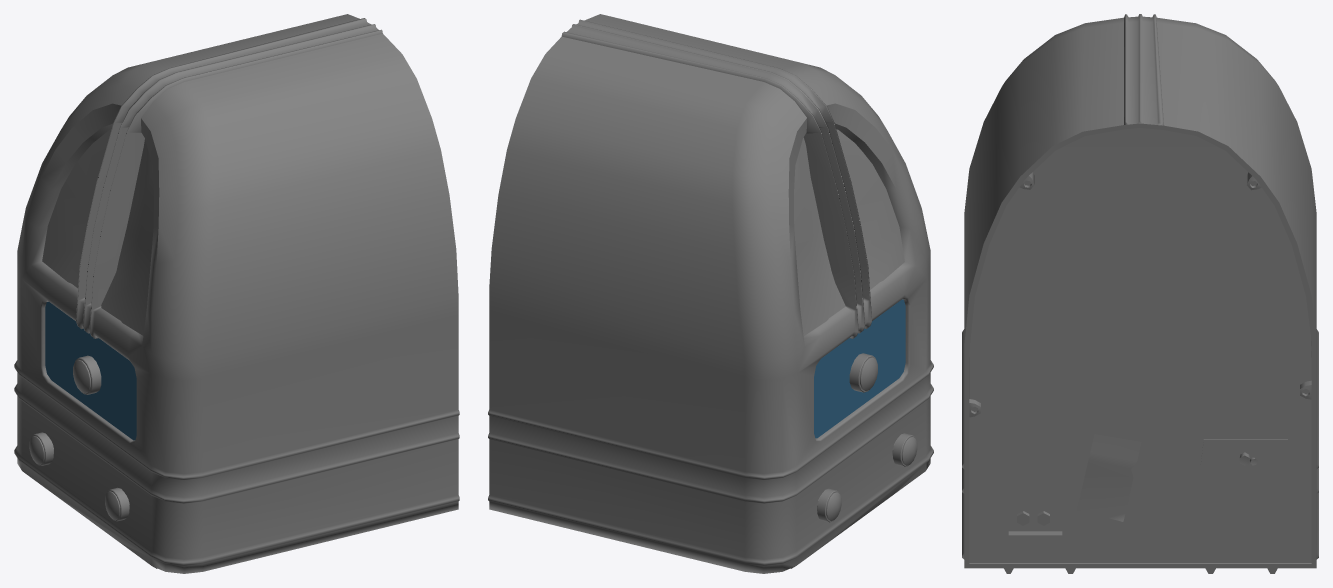
3 views of the same model, side by side, from view 1: azimuth 30°, elevation 25°; view 2: azimuth 150°, elevation 25°; view 3: azimuth 270°, elevation 25° (orthographic). The views are drawn at different scales.
Parts seen in each view (by area): view 1: Frame, Speaker, PlasticCover, SubDials, MainDial; view 2: Frame, Speaker, PlasticCover, SubDials, MainDial; view 3: Backplate, Frame, Tape, Airel, ScrewHoles.
Part boxes in pixels (bbox=[...]): Frame: bbox=[14, 14, 459, 573]; Speaker: bbox=[42, 129, 153, 335]; PlasticCover: bbox=[45, 301, 136, 440]; SubDials: bbox=[29, 432, 129, 521]; MainDial: bbox=[73, 355, 101, 394]; Frame: bbox=[488, 14, 933, 573]; Speaker: bbox=[794, 129, 904, 335]; PlasticCover: bbox=[814, 299, 905, 438]; SubDials: bbox=[817, 433, 917, 522]; MainDial: bbox=[849, 353, 877, 392]; Backplate: bbox=[969, 128, 1311, 562]; Frame: bbox=[962, 14, 1318, 573]; Tape: bbox=[1076, 434, 1141, 521]; Airel: bbox=[1200, 439, 1287, 465]; ScrewHoles: bbox=[969, 172, 1311, 417].
Bounding box in the file's own units: 1.49 × 2 × 1.43.
